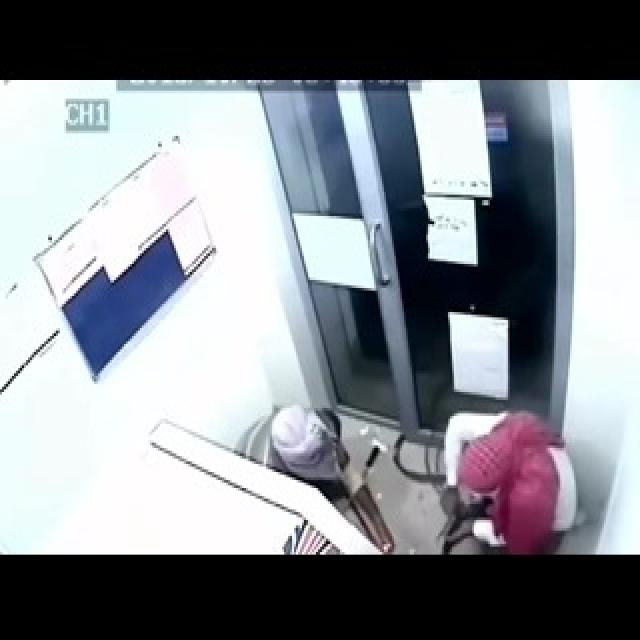thief: (450, 408, 576, 558), (250, 370, 353, 484)
